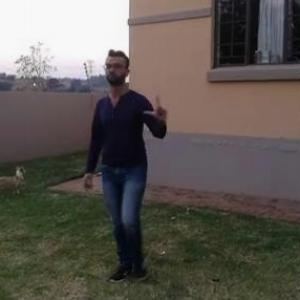land_hand: (141, 90, 173, 126)
